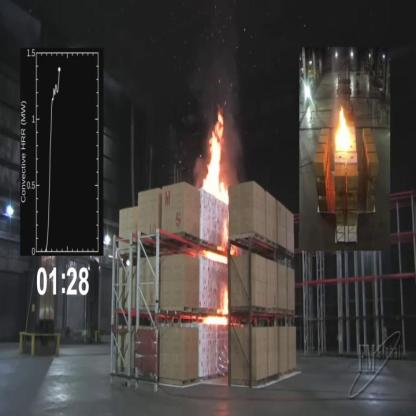fire: (200, 100, 235, 210), (221, 219, 236, 260), (220, 284, 231, 316)
